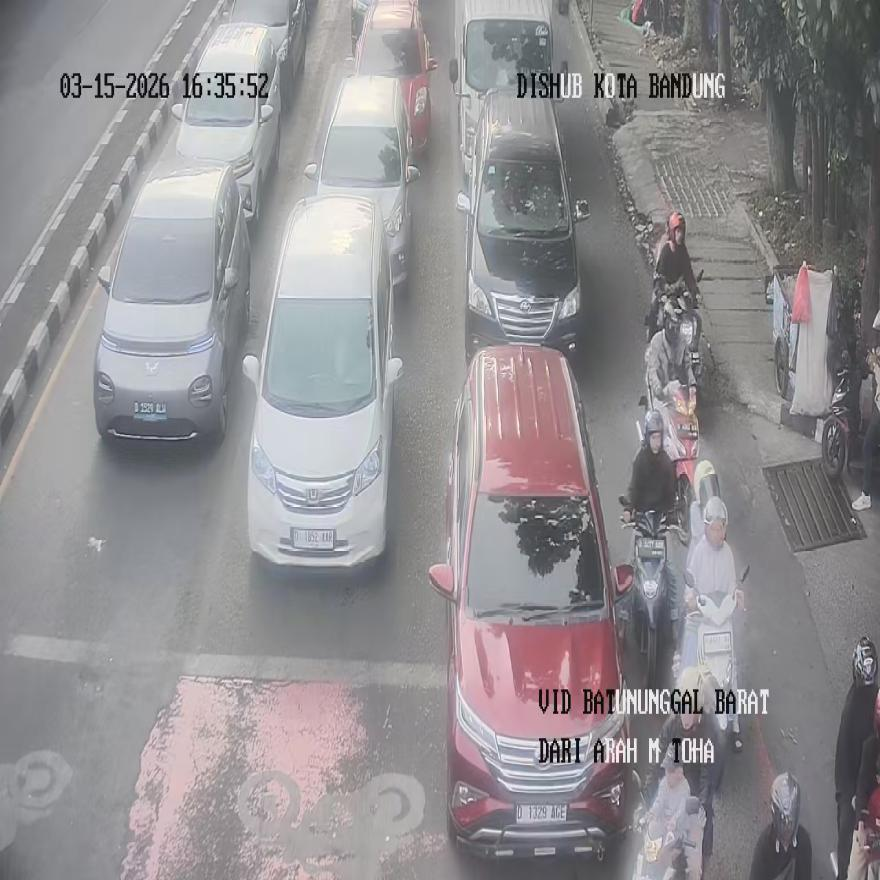Motor: (428, 346, 634, 860), (242, 195, 402, 568), (92, 162, 250, 443), (456, 85, 588, 360), (304, 74, 419, 289), (170, 23, 280, 224), (449, 0, 566, 181), (353, 0, 435, 156), (228, 0, 308, 110)
Truk: (678, 564, 748, 751), (620, 504, 677, 688), (638, 381, 699, 546), (646, 270, 704, 406), (749, 772, 811, 880), (631, 797, 704, 880)
